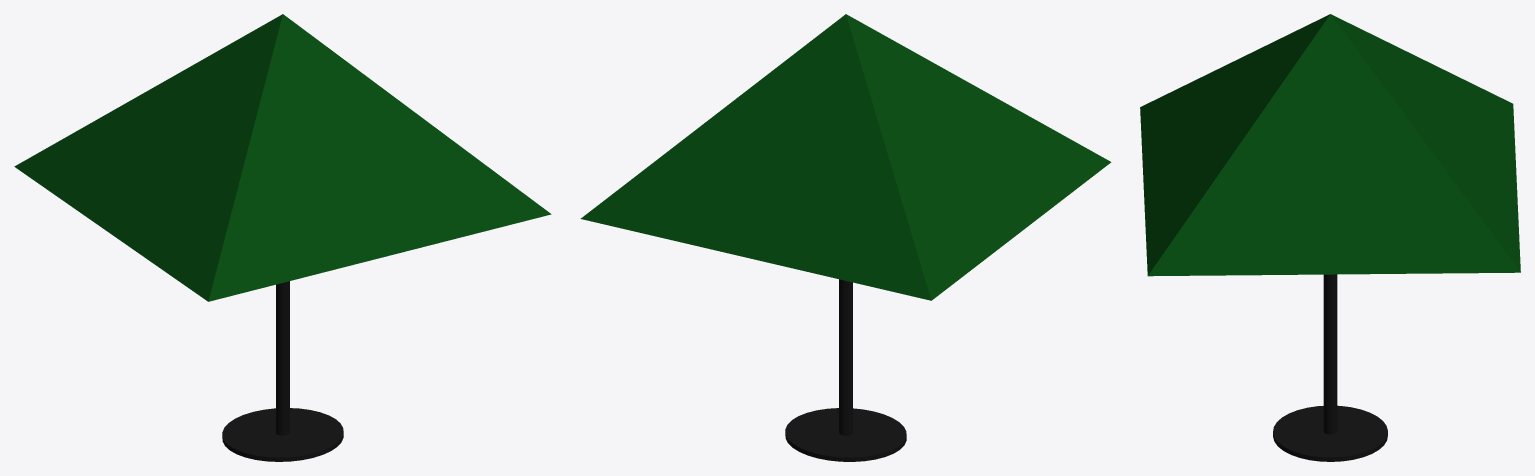
File: cube.134_lev3.glb
3 renders of one model, left to right at view 1: azimuth 30°, elevation 25°; view 2: azimuth 150°, elevation 25°; view 3: azimuth 270°, elevation 25°, orthographic.
Visible parts, largest first — view 1: cube.134_lev3; view 2: cube.134_lev3; view 3: cube.134_lev3.
Part boxes in pixels (x1,y1,x2,y2): cube.134_lev3: [14, 14, 551, 461]; cube.134_lev3: [580, 14, 1111, 461]; cube.134_lev3: [1140, 14, 1520, 461].
Bounding box in the file's own units: 0.9046 × 1.03 × 0.8442.
